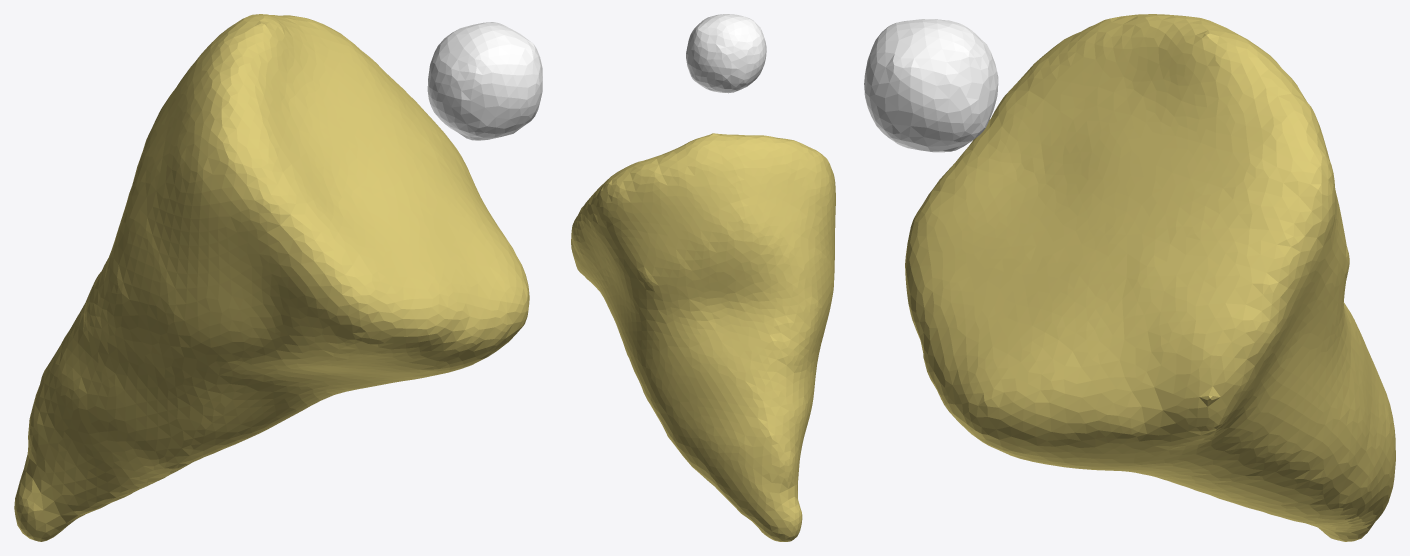
The model's file is ice.obj.
3 views of the same model, side by side, from view 1: azimuth 30°, elevation 25°; view 2: azimuth 150°, elevation 25°; view 3: azimuth 270°, elevation 25° (orthographic). The views are drawn at different scales.
Size of the model in its own units: 0.2281 by 0.3187 by 0.2319.
